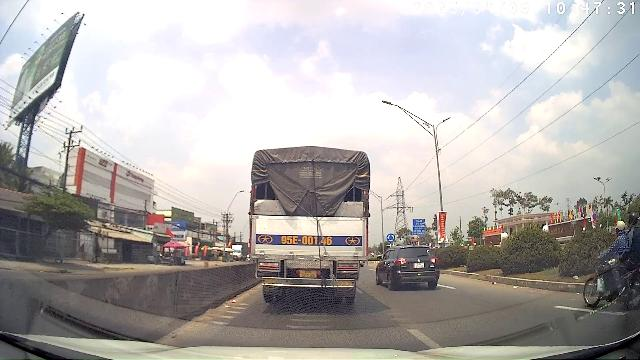303-noi-giao-nhau-chay-theo-vong-xuyen: (386, 234, 396, 242)
